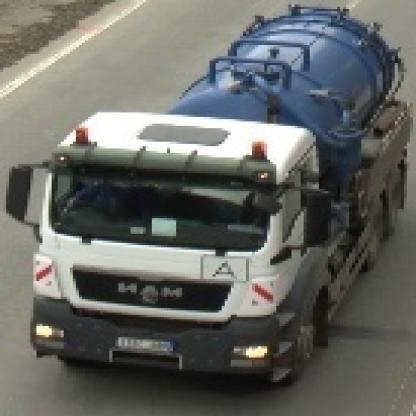truck: (4, 6, 411, 395)
